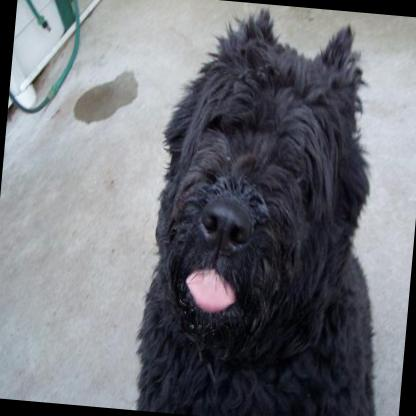Bouvier_des_Flandres: (129, 0, 411, 416)
